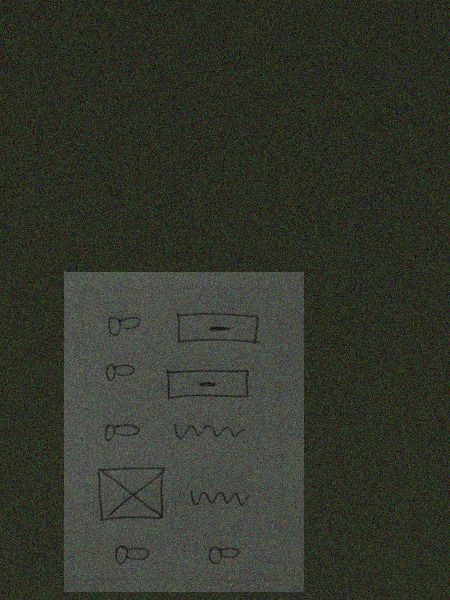image: (94, 462, 167, 526)
switch: (108, 539, 155, 568), (102, 418, 142, 448), (104, 312, 145, 340), (202, 542, 243, 568), (100, 359, 138, 385)
text: (169, 420, 248, 449), (185, 483, 253, 511)
text_input: (162, 364, 257, 404), (169, 309, 265, 348)
